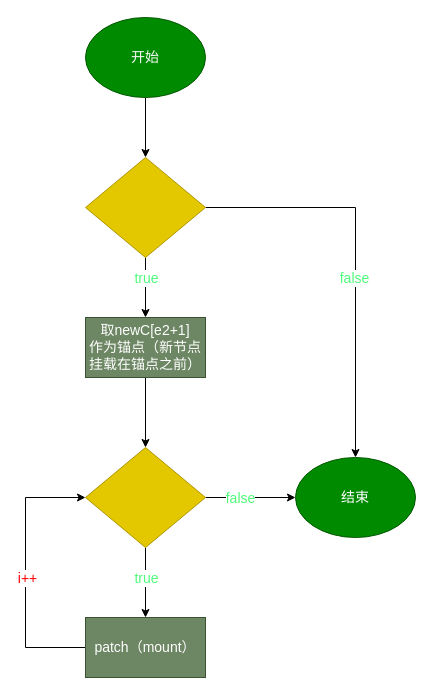
This 433x695 diagram has some shape labels left out. Each missing label, with the box of its shape:
i>e1&&i<=e2: (84, 156, 206, 258)
while i<=e2: (84, 446, 206, 548)
